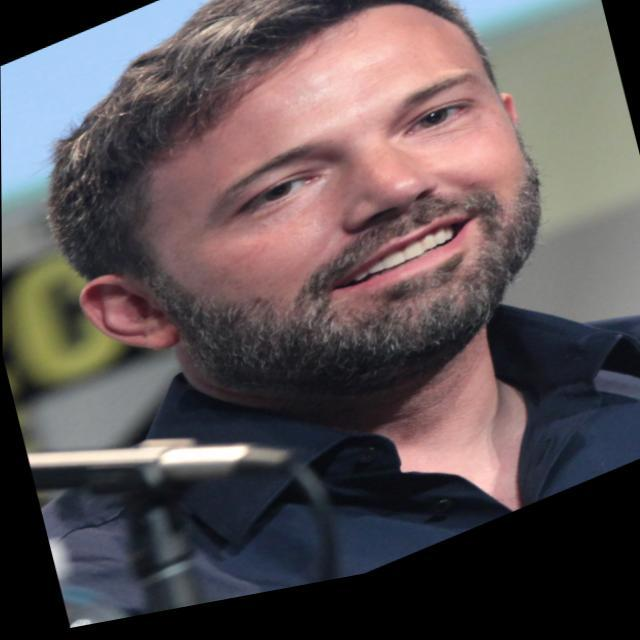Nonhelmet: (44, 0, 546, 399)
